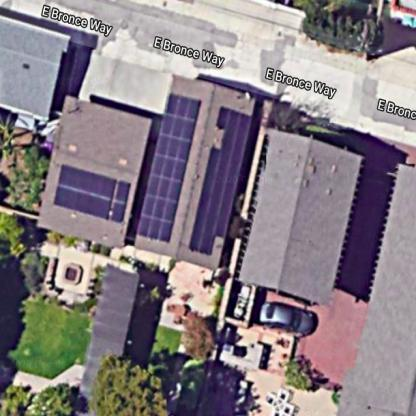car: (255, 294, 325, 346)
solar_panel: (142, 67, 197, 256), (203, 89, 250, 256), (52, 154, 130, 225)
